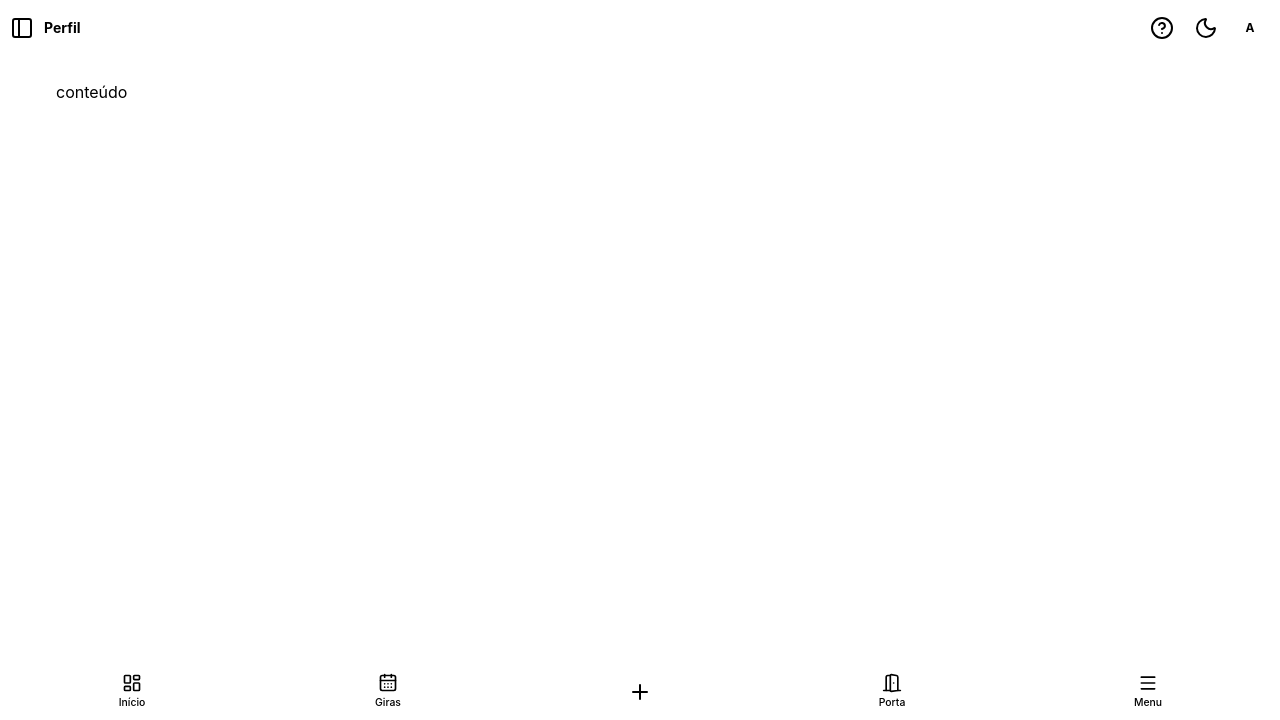
Menu do painel — Trocar de terreiro › o diálogo lista o terreiro atual ("Você está aqui") e as outras contas
This screenshot has width=1280, height=720.
Click the button with test id "topbar-user-menu".
click(1250, 28)  # box [1232,10,1268,46]
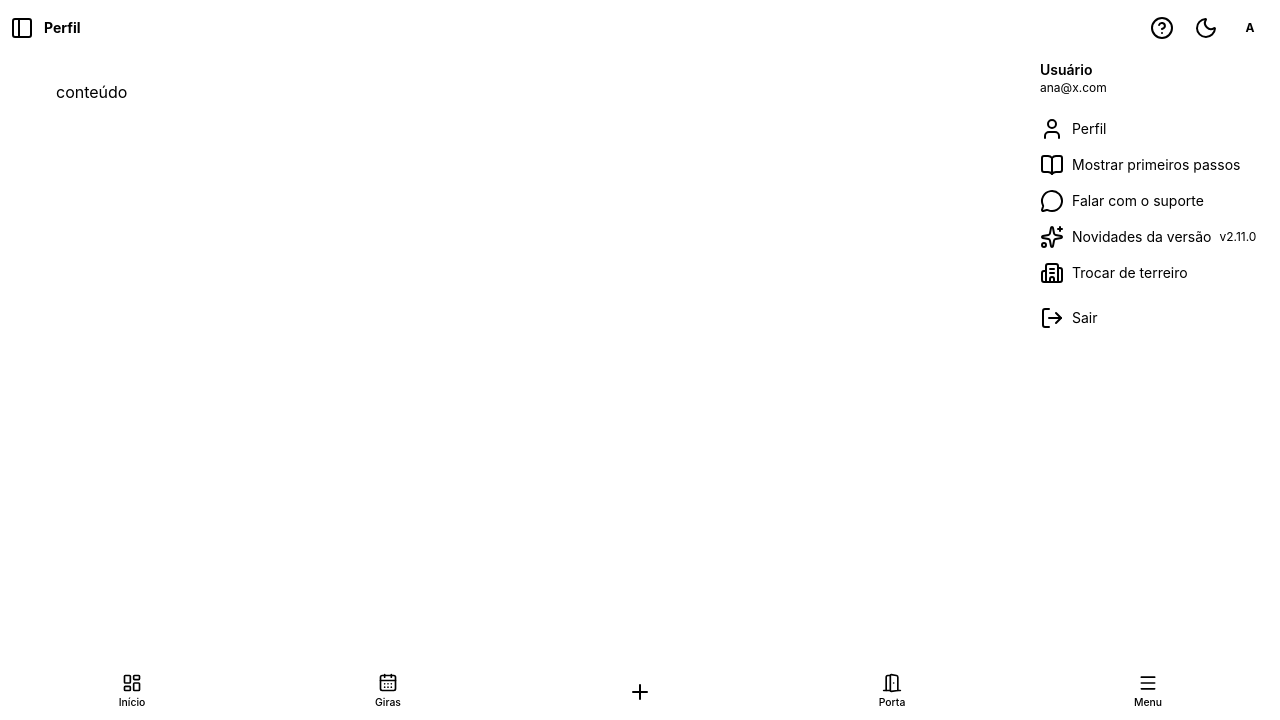
Check: the menu item "Sair" is shown, box [1040,306,1098,330]
Click the menu item "Trocar de terreiro".
click(1114, 273)  # box [1040,261,1188,285]
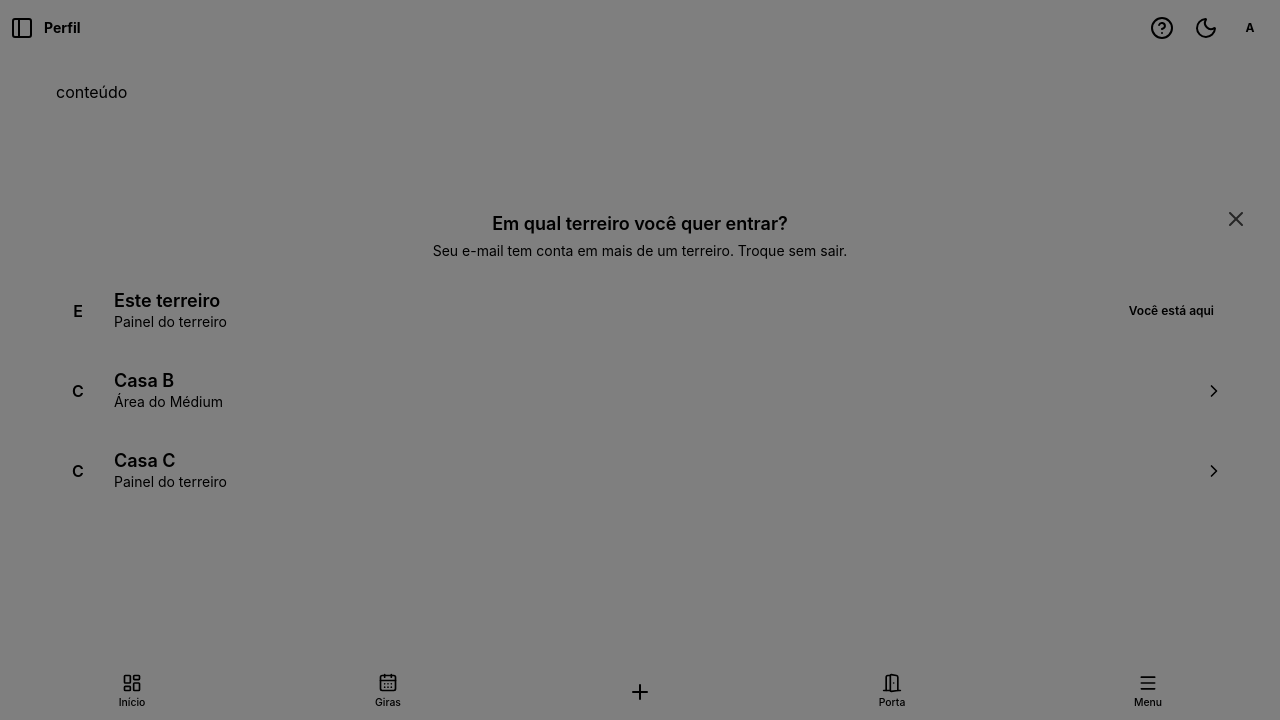
Check: the heading "Em qual terreiro você quer entrar?" is shown, box [492,213,788,234]
Check: the text "Você está aqui" is shown, box [1129,303,1214,318]
Check: the button with aria-label "Casa B — Área do Médium" is shown, box [40,357,1240,425]
